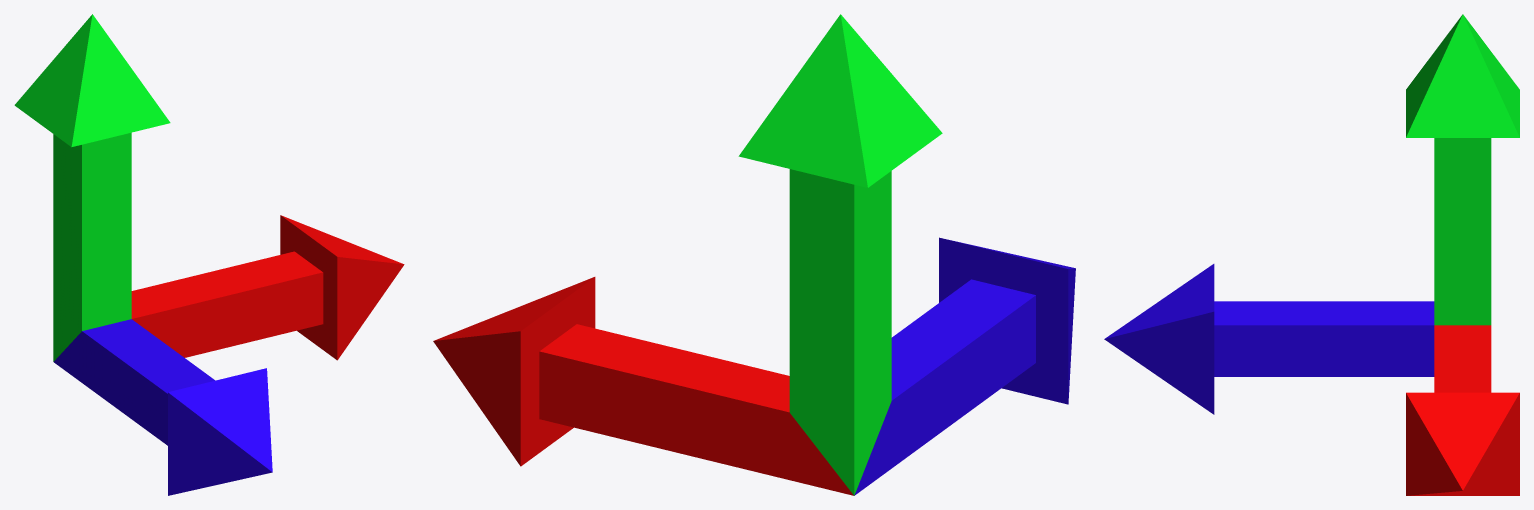
Rendered from TranslateHandle.glb.
The picture shows the model from 3 angles, left to right: view 1: azimuth 30°, elevation 25°; view 2: azimuth 150°, elevation 25°; view 3: azimuth 270°, elevation 25°; orthographic projection. The views are drawn at different scales.
Visible parts, largest first — view 1: TranlateHandle; view 2: TranlateHandle; view 3: TranlateHandle.
Boxes of the visible parts, box(x1,y1,x2,y2) form: TranlateHandle: box(14, 14, 404, 495); TranlateHandle: box(433, 14, 1075, 495); TranlateHandle: box(1104, 14, 1519, 495).
Size of the model in its own units: 1 by 1 by 1.
1 material, 1 textured.
